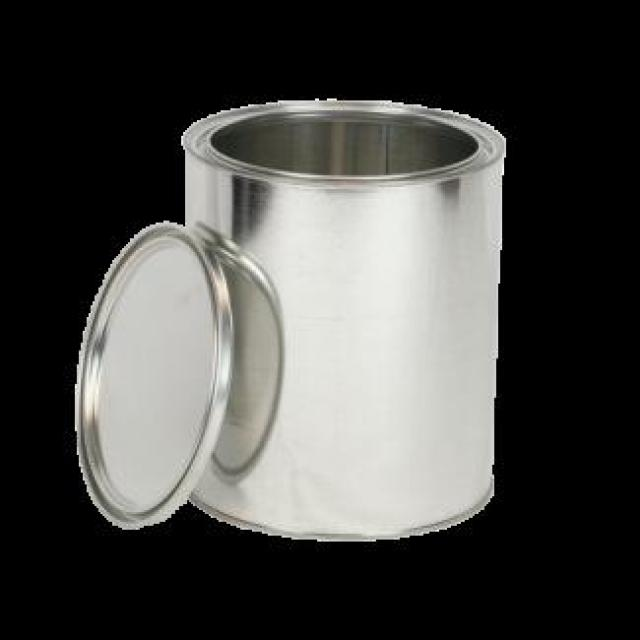metel: (64, 91, 527, 546)
